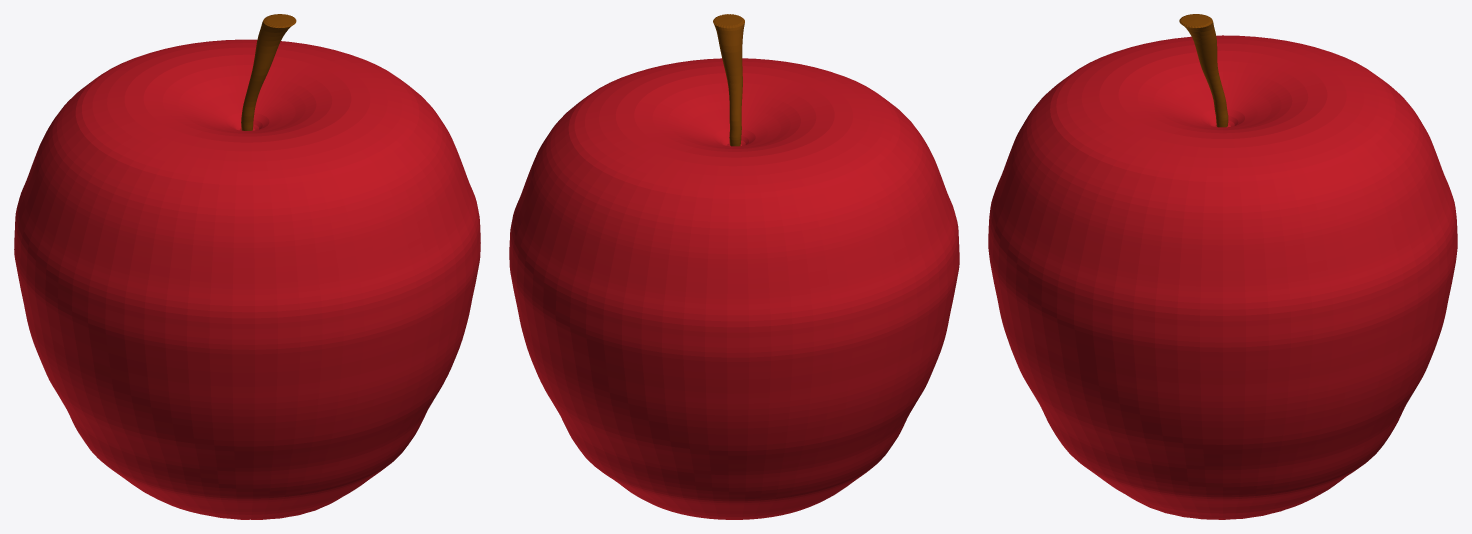
Rendered from apple.fbx.
The picture shows the model from 3 angles, left to right: view 1: azimuth 30°, elevation 25°; view 2: azimuth 150°, elevation 25°; view 3: azimuth 270°, elevation 25°; orthographic projection. The views are drawn at different scales.
Parts seen in each view (by area): view 1: Apple, Stalk; view 2: Apple, Stalk; view 3: Apple, Stalk.
Part boxes in pixels (x1,y1,x2,y2): Apple: (14,39,480,519); Stalk: (241,14,296,130); Apple: (509,58,959,519); Stalk: (713,14,744,146); Apple: (988,35,1457,519); Stalk: (1179,14,1228,127).
Size of the model in its own units: 430 by 475 by 430.
